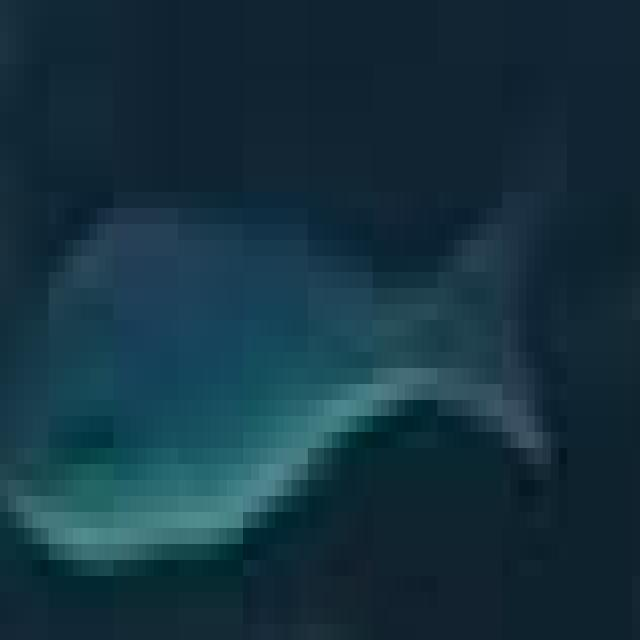fish: (0, 16, 632, 640)
